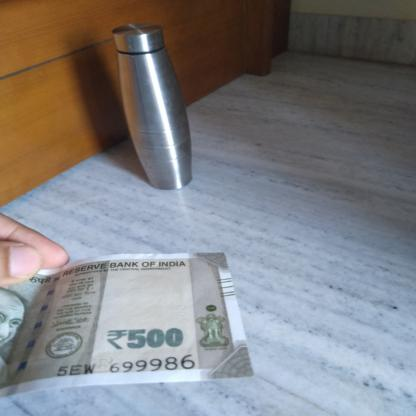New500Front: (0, 254, 243, 376)
